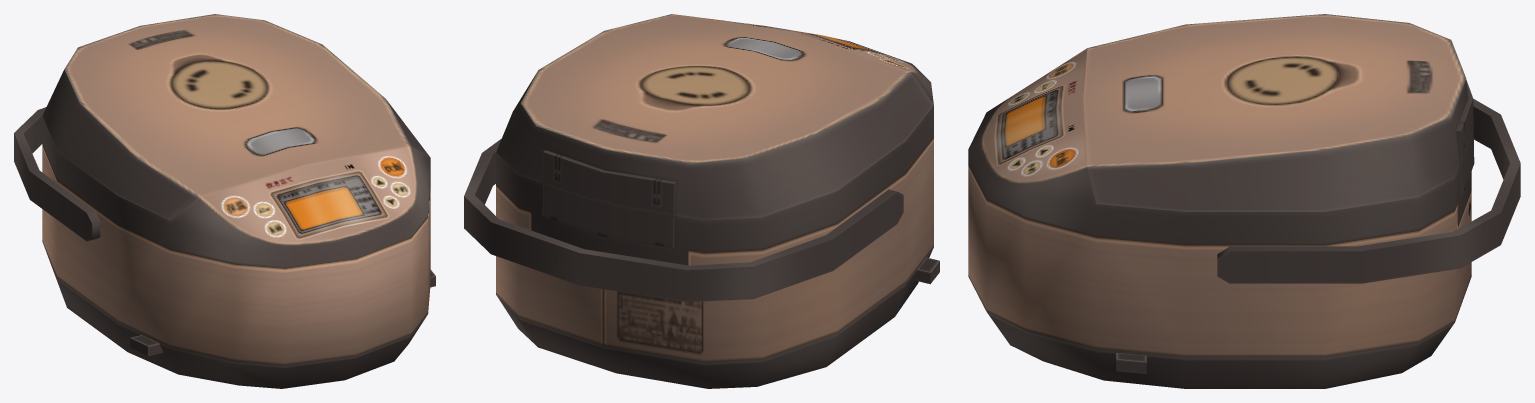
File: KR_Ricecooker_01_01.fbx
3 views of the same model, side by side, from view 1: azimuth 30°, elevation 25°; view 2: azimuth 150°, elevation 25°; view 3: azimuth 270°, elevation 25° (orthographic). The views are drawn at different scales.
Visible parts, largest first — view 1: mainbody, lid, handle; view 2: mainbody, lid, handle; view 3: mainbody, lid, handle.
Part boxes in pixels (bbox=[...]): mainbody: bbox=[42, 116, 435, 388]; lid: bbox=[42, 14, 429, 220]; handle: bbox=[14, 107, 101, 241]; mainbody: bbox=[496, 14, 939, 388]; lid: bbox=[496, 14, 933, 220]; handle: bbox=[464, 139, 903, 302]; mainbody: bbox=[968, 48, 1474, 388]; lid: bbox=[1083, 14, 1468, 211]; handle: bbox=[1217, 99, 1520, 283].
Size of the model in its own units: 30.49 by 19.47 by 40.67.
